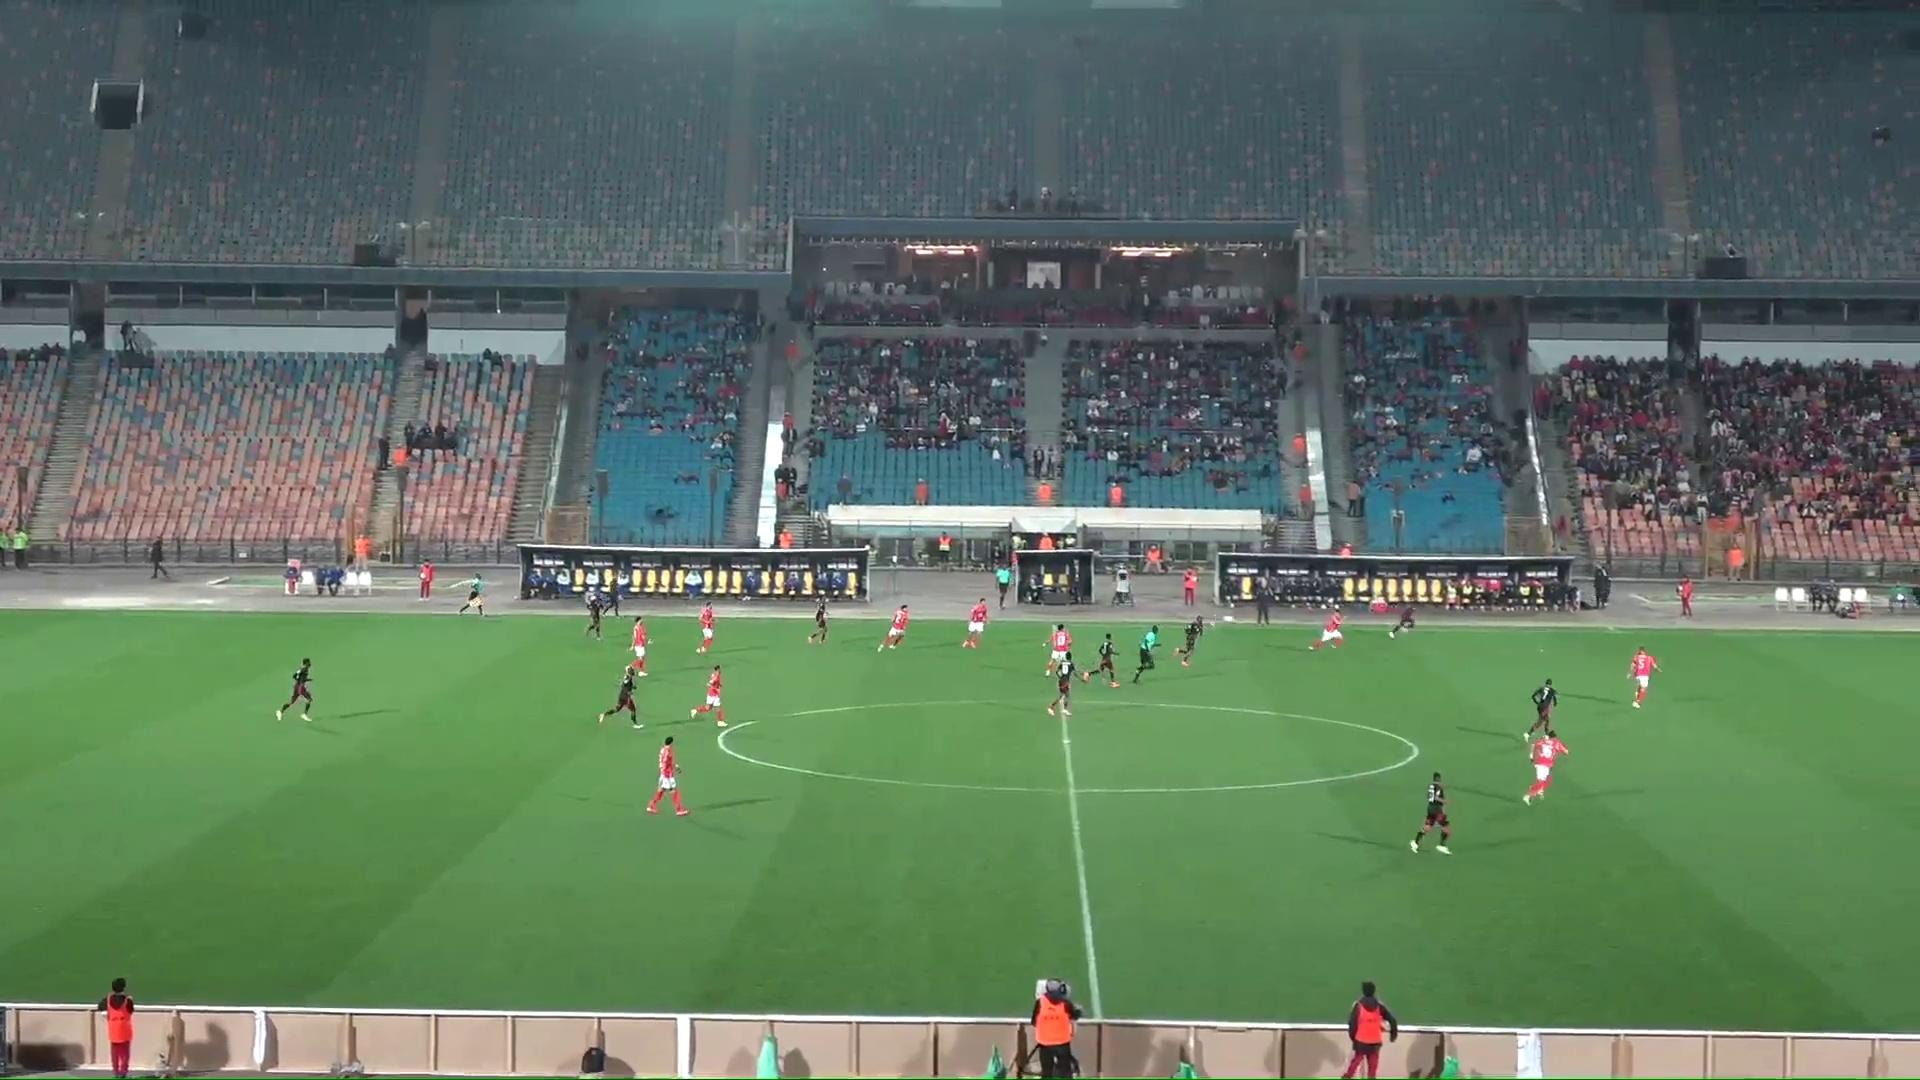Refree: (1135, 626, 1162, 682), (458, 574, 484, 615)
Team1: (646, 736, 690, 815), (1522, 732, 1568, 803), (690, 665, 727, 728), (1627, 646, 1659, 707), (960, 597, 992, 647), (625, 616, 651, 675), (1043, 624, 1073, 675), (878, 605, 911, 651), (1309, 611, 1344, 650), (695, 603, 717, 655)
Team2: (1408, 771, 1451, 853), (597, 665, 644, 727), (276, 659, 314, 720), (1522, 678, 1560, 738), (1044, 661, 1087, 715), (1079, 633, 1120, 688), (1174, 615, 1211, 667), (585, 584, 618, 640), (806, 600, 829, 644), (1389, 603, 1415, 637)
